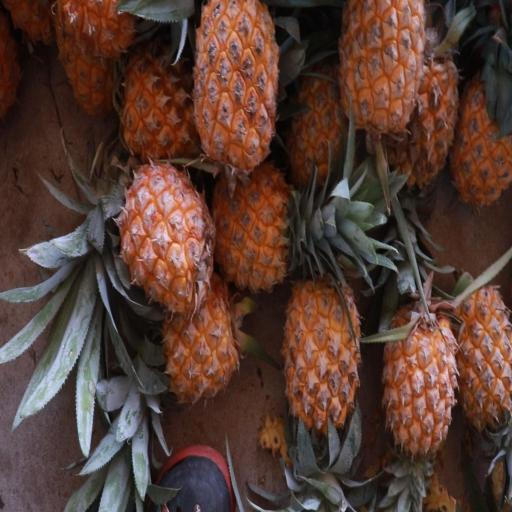Pineapple - v8 v1: (111, 153, 221, 318), (281, 264, 365, 476), (188, 1, 282, 177), (208, 156, 318, 304), (378, 292, 460, 476), (383, 22, 462, 194), (338, 0, 428, 146), (156, 264, 244, 410), (443, 264, 512, 444), (445, 47, 512, 213)
